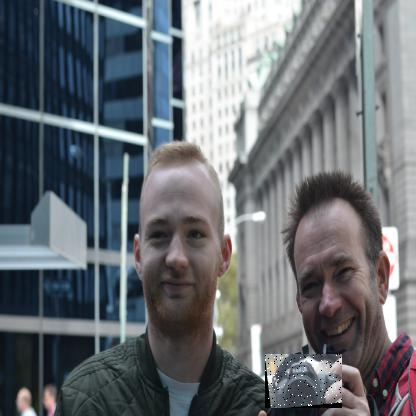Camera: (266, 355, 344, 410)
